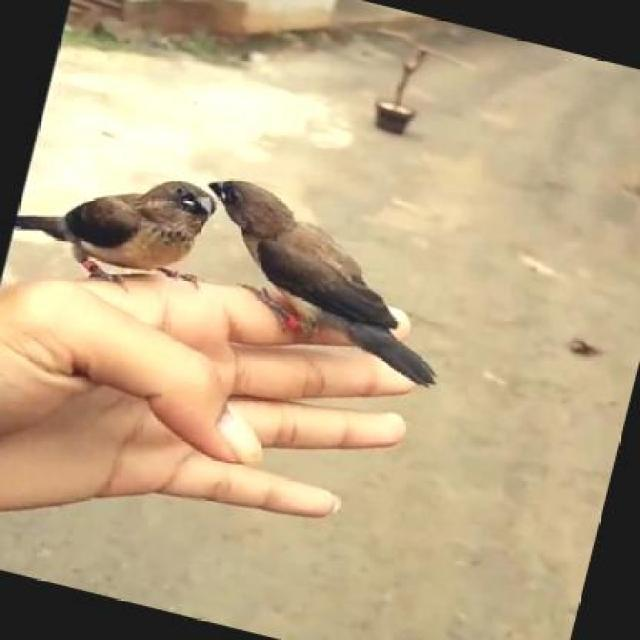Bird: (200, 165, 448, 398), (14, 167, 215, 308)
